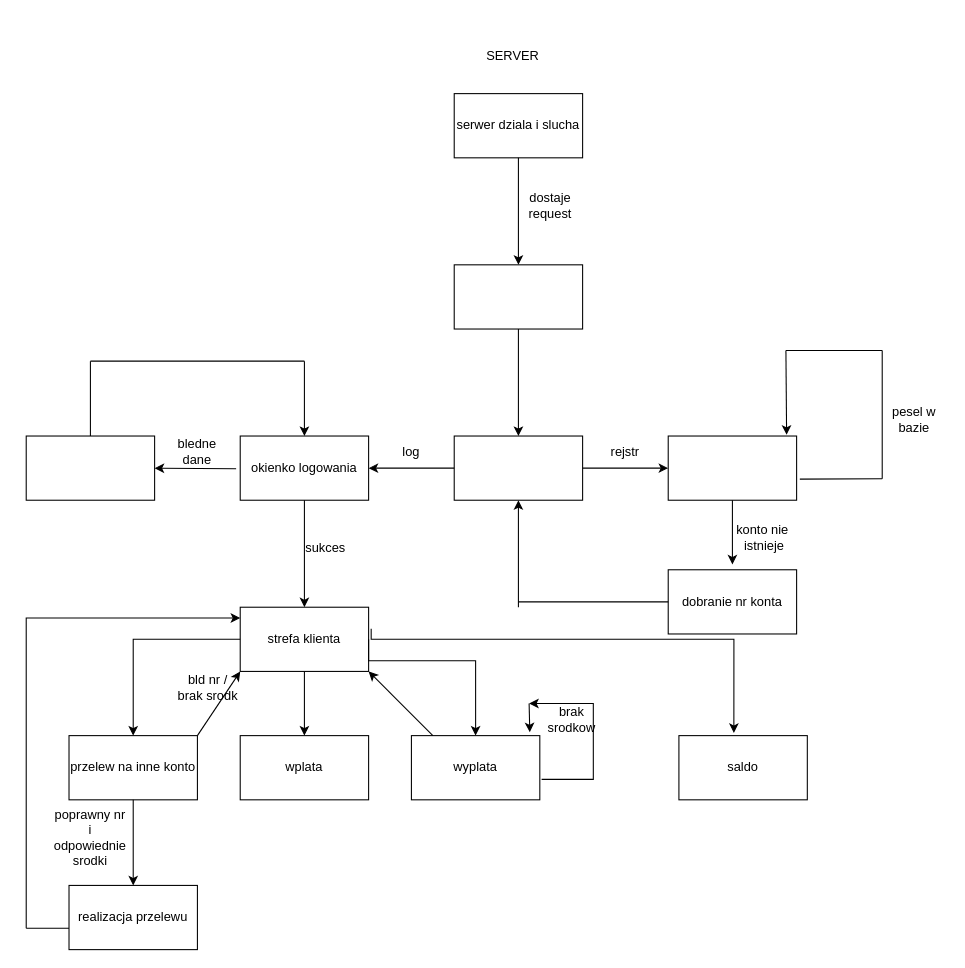
The diagram is 965 pixels wide and 968 high, and some of its shapes have lost their labels. Each missing label, with the centre of its shape:
"akceptuje request tworzy nitke" goes at (518,296).
"nie zalogowano" goes at (90,467).
"rejestracja czy logowanie?" goes at (518,467).
"zapytanie o dane do konta?" goes at (732,467).
